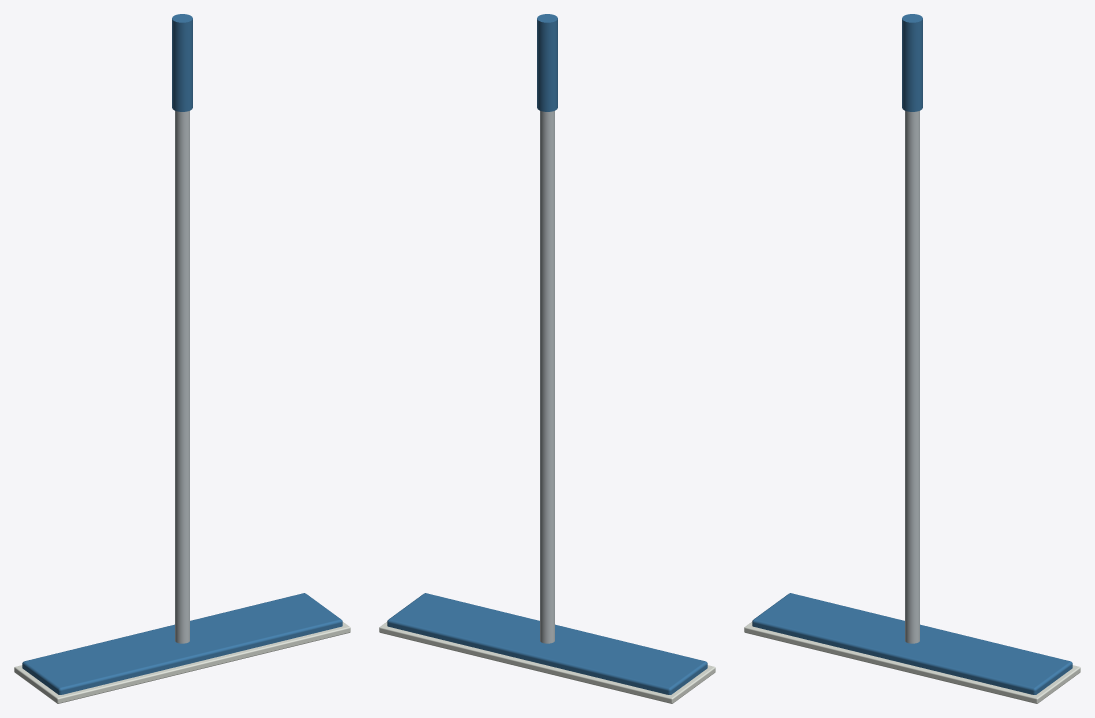
Rendered from squash-club-and-racket-workshop-court-cleaning-mop-4a5fb47e__29750.glb.
3 views of the same model, side by side, from view 1: azimuth 30°, elevation 25°; view 2: azimuth 150°, elevation 25°; view 3: azimuth 330°, elevation 25° (orthographic).
Visible parts, largest first — view 1: court-cleaning-mop; view 2: court-cleaning-mop; view 3: court-cleaning-mop.
Boxes of the visible parts, x1,y1,x2,y2 form: court-cleaning-mop: (14,14,350,703); court-cleaning-mop: (379,14,715,703); court-cleaning-mop: (744,14,1080,703).
Size of the model in its own units: 0.62 by 1.28 by 0.16.
